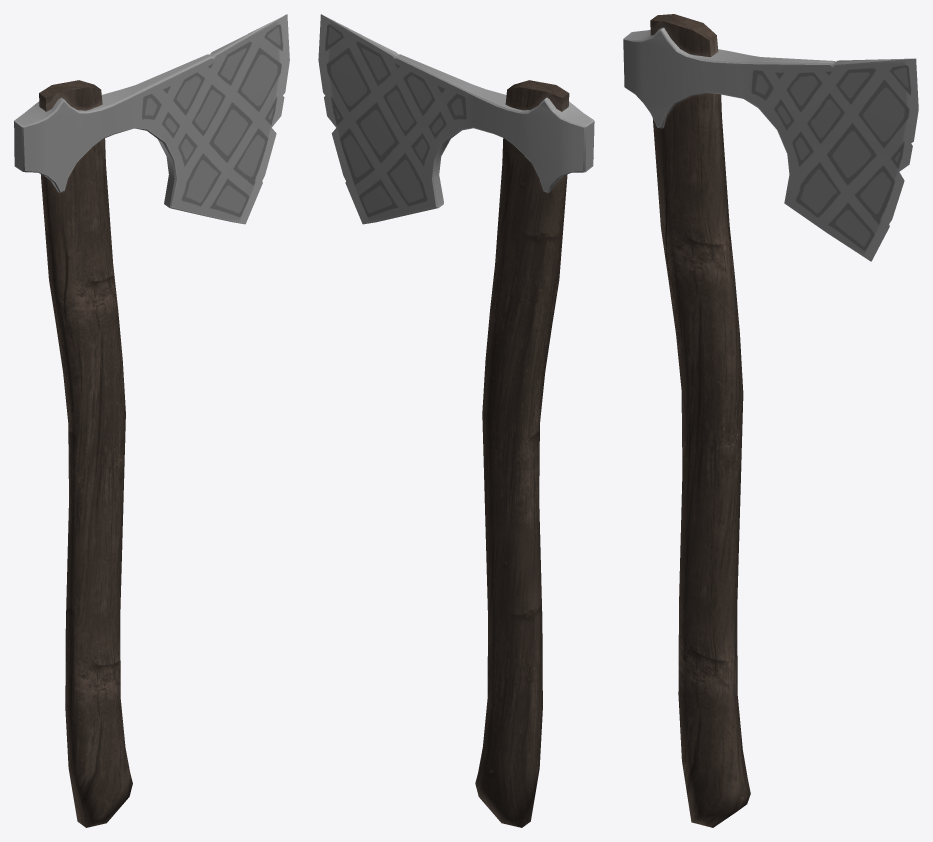
File: Viking Axe.obj
The picture shows the model from 3 angles, left to right: view 1: azimuth 30°, elevation 25°; view 2: azimuth 150°, elevation 25°; view 3: azimuth 330°, elevation 25°; orthographic projection. The views are drawn at different scales.
Visible parts, largest first — view 1: Viking_Axe; view 2: Viking_Axe; view 3: Viking_Axe.
Boxes of the visible parts, left/top/right/bottom form: Viking_Axe: left=14, top=14, right=289, bottom=827; Viking_Axe: left=318, top=14, right=594, bottom=827; Viking_Axe: left=623, top=14, right=918, bottom=827.
Bounding box in the file's own units: 127 × 340 × 13.36.
Materials: 1 (1 with a texture image).
